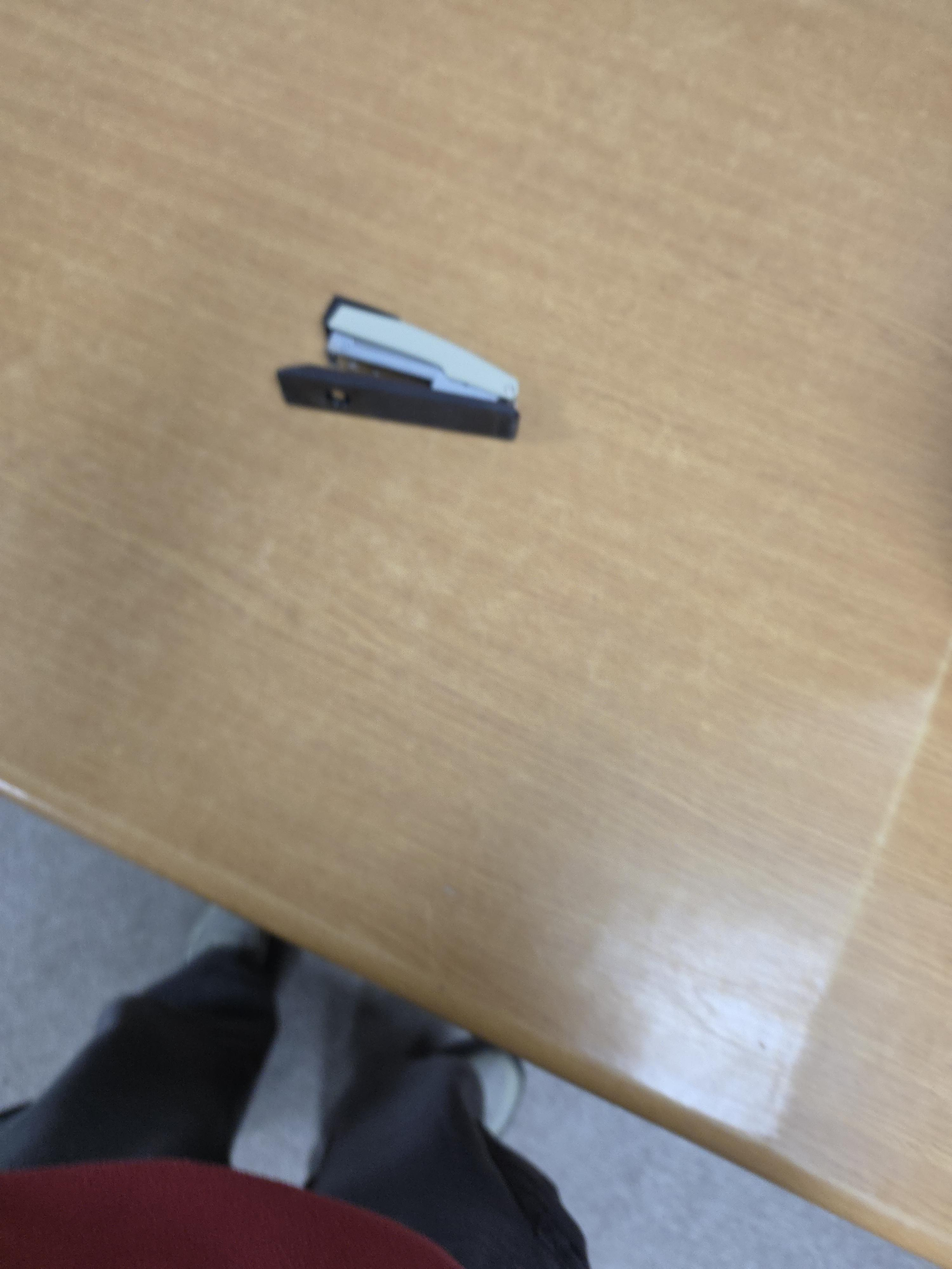stapler: (274, 293, 523, 442)
